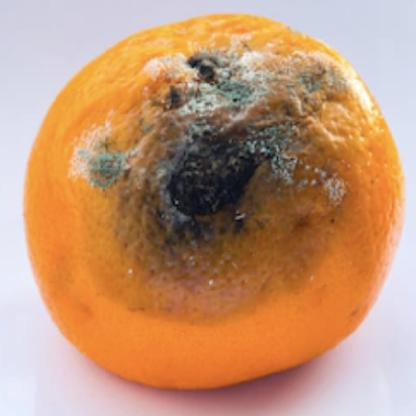rotten: (23, 12, 407, 388)
